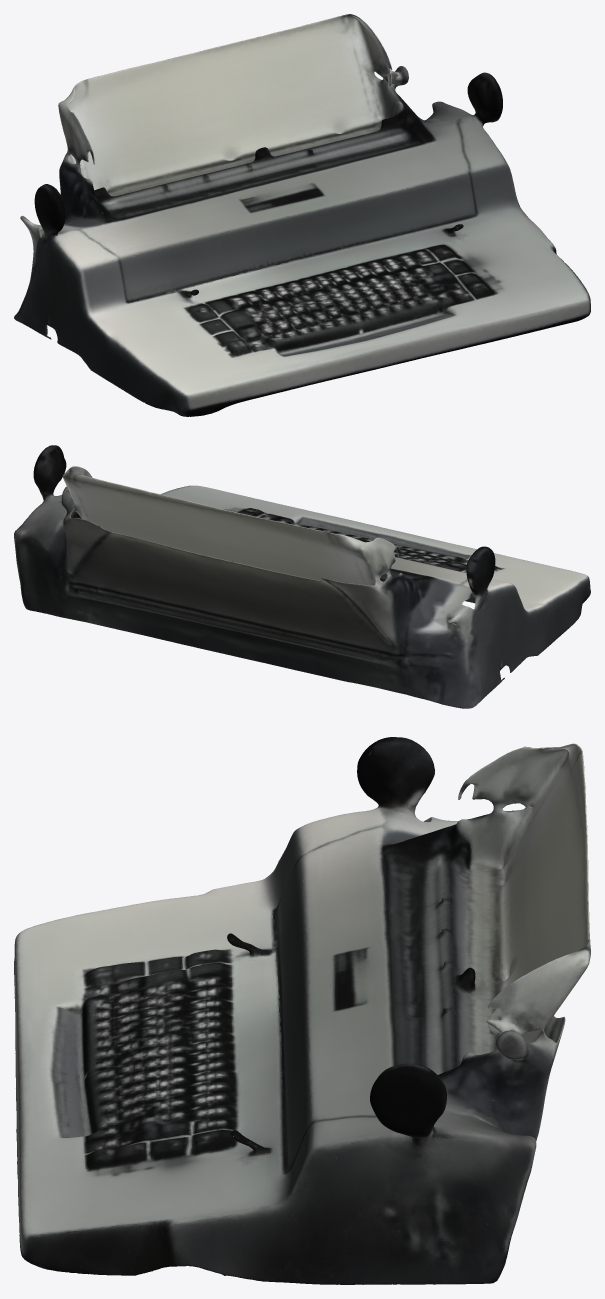
The model's file is ibm2741-reference.glb.
3 views of the same model, one above another, from view 1: azimuth 30°, elevation 25°; view 2: azimuth 150°, elevation 25°; view 3: azimuth 270°, elevation 25° (orthographic). The views are drawn at different scales.
Visible parts, largest first — view 1: geometry_0; view 2: geometry_0; view 3: geometry_0.
Boxes of the visible parts, left/top/right/bottom form: geometry_0: left=14, top=14, right=590, bottom=416; geometry_0: left=14, top=445, right=590, bottom=708; geometry_0: left=14, top=737, right=590, bottom=1284.
Bounding box in the file's own units: 1 × 0.379 × 0.7112.
Materials: 1 (1 with a texture image).
